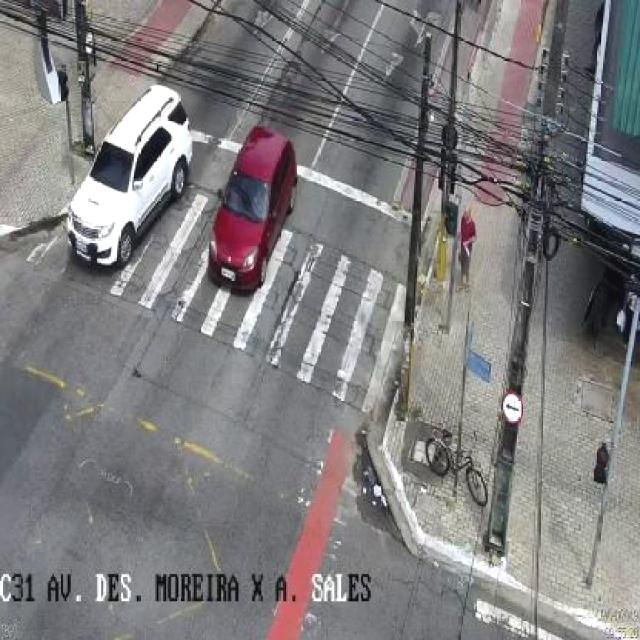Car: (60, 87, 202, 276), (176, 128, 317, 294)
Cycle: (408, 433, 493, 504)
